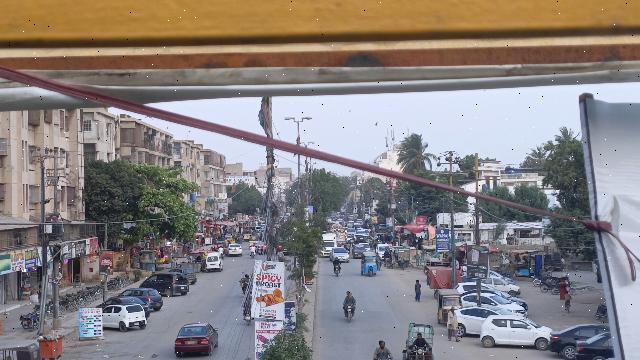Bike: (340, 302, 357, 323), (243, 310, 254, 326), (332, 264, 343, 276)
Car: (478, 312, 552, 352), (544, 324, 608, 358), (172, 318, 221, 357), (454, 303, 505, 337), (101, 304, 149, 332), (137, 272, 190, 297), (98, 294, 151, 317), (574, 330, 611, 360), (119, 287, 163, 312)
Cart: (403, 321, 435, 360)
Person: (443, 306, 463, 344), (374, 336, 391, 359), (412, 277, 424, 305), (413, 330, 426, 349), (242, 294, 252, 311), (346, 291, 354, 304), (332, 256, 342, 265)
Rickshaw: (436, 288, 462, 324), (359, 250, 380, 278)
Van: (205, 251, 223, 274)
